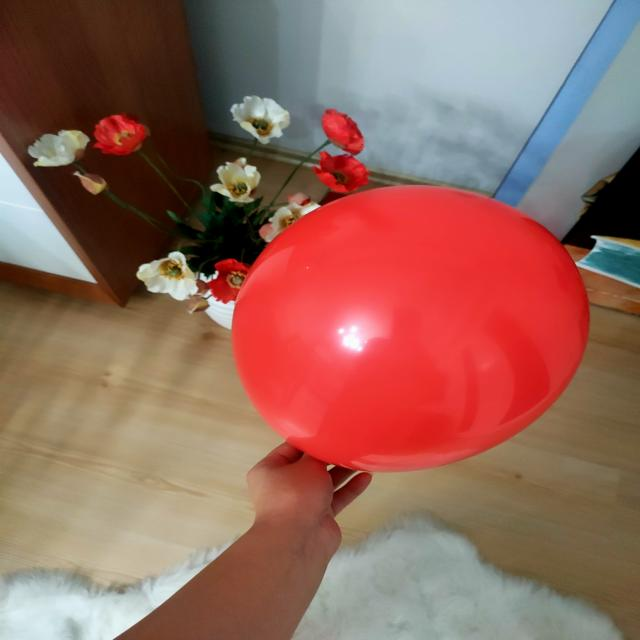red: (236, 188, 590, 473)
